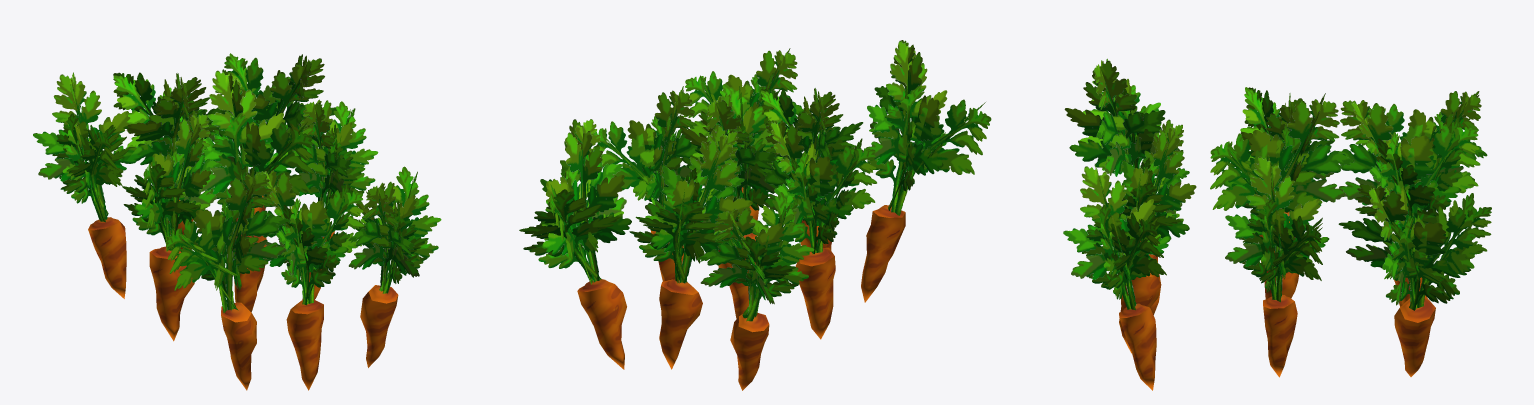
File: Carrot_Step03.fbx
The picture shows the model from 3 angles, left to right: view 1: azimuth 30°, elevation 25°; view 2: azimuth 150°, elevation 25°; view 3: azimuth 270°, elevation 25°; orthographic projection. The views are drawn at different scales.
Parts seen in each view (by area): view 1: Carrot_Step03; view 2: Carrot_Step03; view 3: Carrot_Step03.
Boxes of the visible parts, x1,y1,x2,y2 form: Carrot_Step03: (33, 53, 441, 390); Carrot_Step03: (519, 40, 991, 390); Carrot_Step03: (1063, 58, 1491, 390).
Size of the model in its own units: 212 by 167 by 245.
